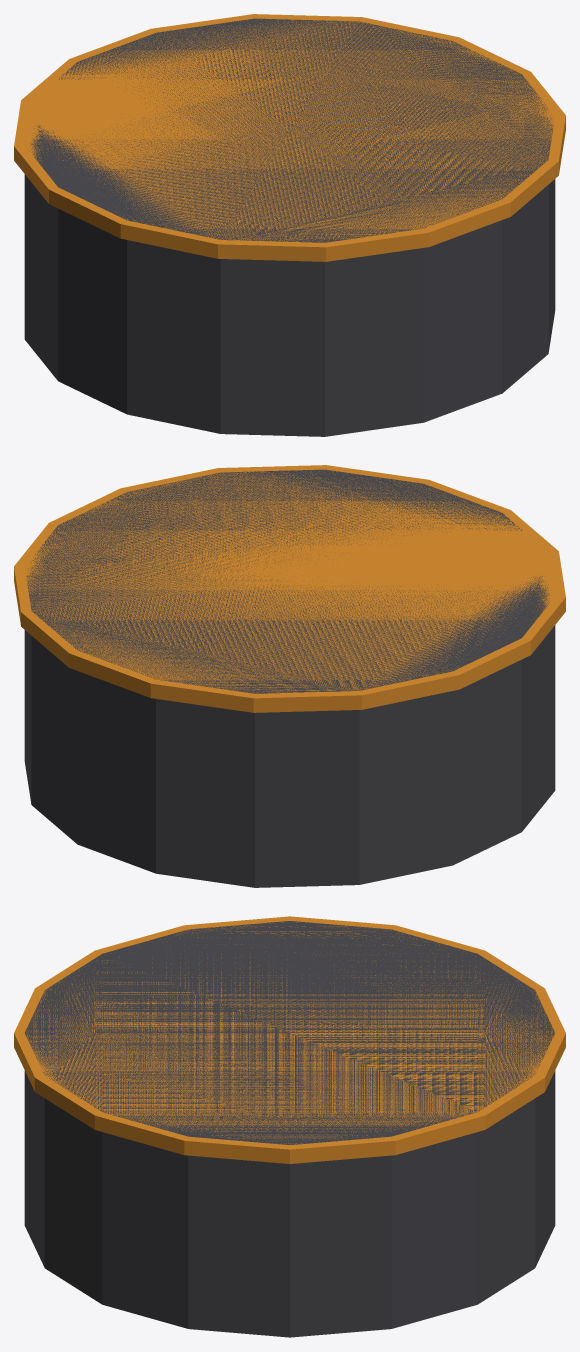
Rendered from missile_base.obj.
3 views of the same model, one above another, from view 1: azimuth 30°, elevation 25°; view 2: azimuth 150°, elevation 25°; view 3: azimuth 270°, elevation 25° (orthographic).
Visible parts, largest first — view 1: MissileBase; view 2: MissileBase; view 3: MissileBase.
Part boxes in pixels (x1,y1,x2,y2): MissileBase: [14, 14, 565, 436]; MissileBase: [14, 465, 565, 887]; MissileBase: [14, 916, 565, 1337].
Size of the model in its own units: 1.04 by 0.4 by 1.04.
